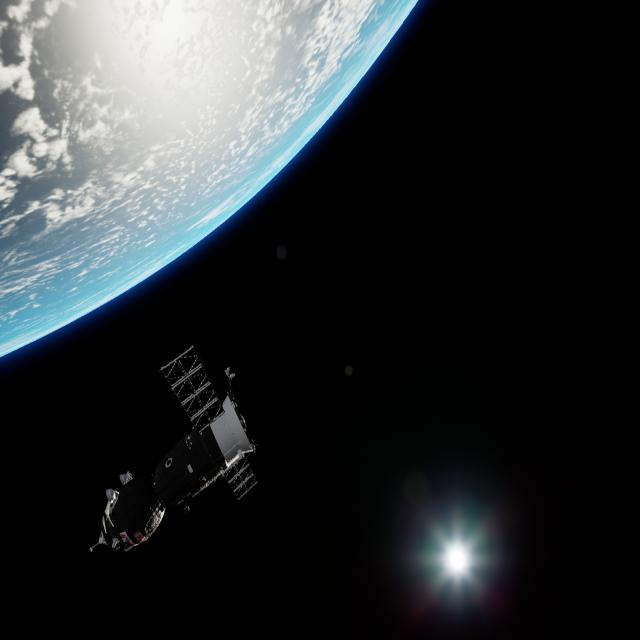Satellites revolving around earth: (1, 1, 420, 358), (88, 342, 260, 558)
